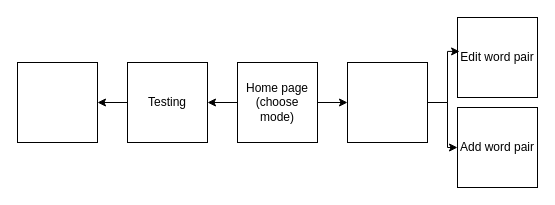
Image size: 555x205. Some labels were removed from this diagram. Each missing label, with the centre of its shape:
"Dictionary" belongs at (x=387, y=102).
"Results" belongs at (x=57, y=102).
